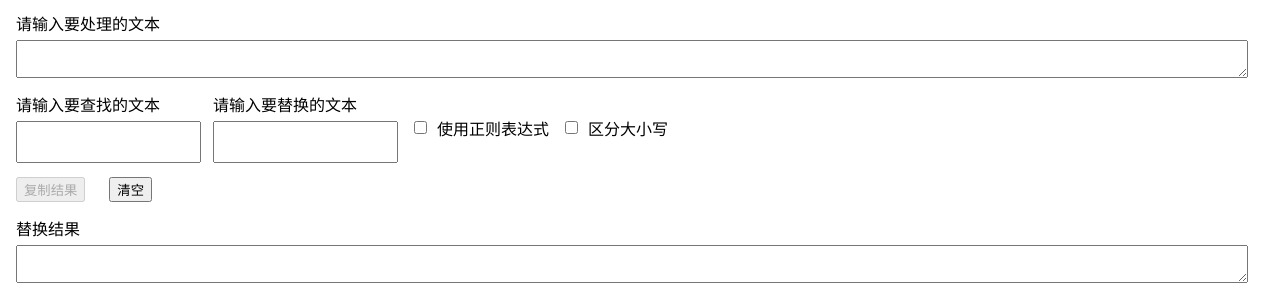
it: developer and text tools › replaces literal punctuation and supports regular expression groups
Step 1. Type "a. A. x" into the text box labelled "请输入要处理的文本" → (632, 59), box [16,40,1248,78]
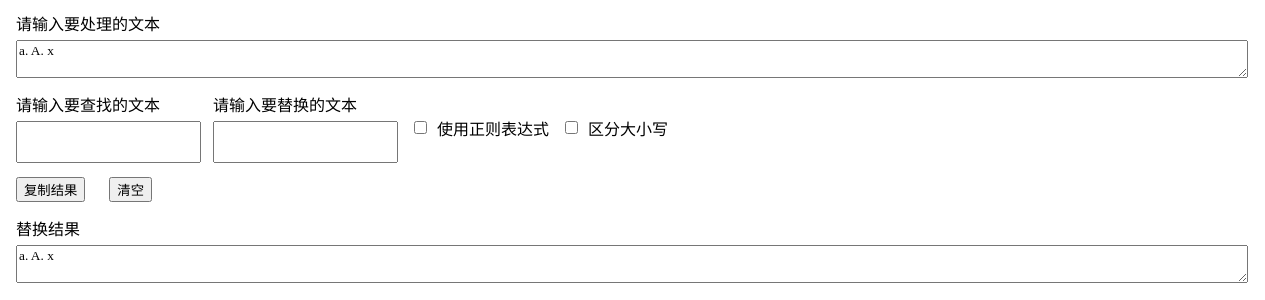
Step 2. Type "a." into the field labelled "请输入要查找的文本" → (108, 142), box [16,121,201,163]
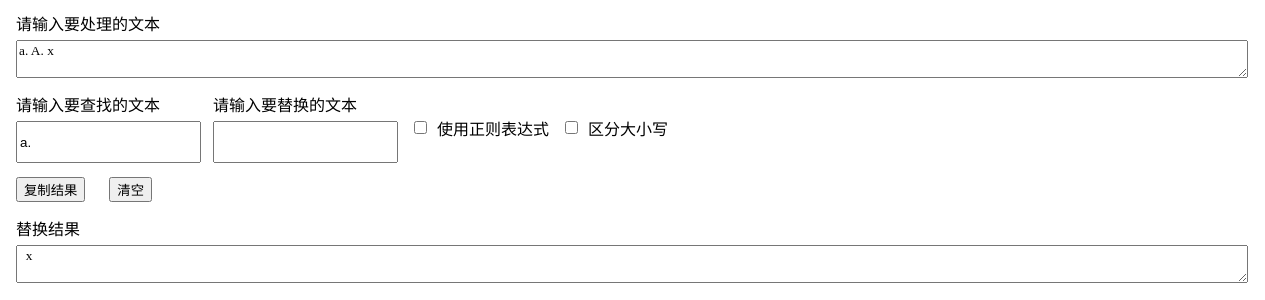
Step 3. Type "$&" into the field labelled "请输入要替换的文本" → (306, 142), box [213,121,398,163]
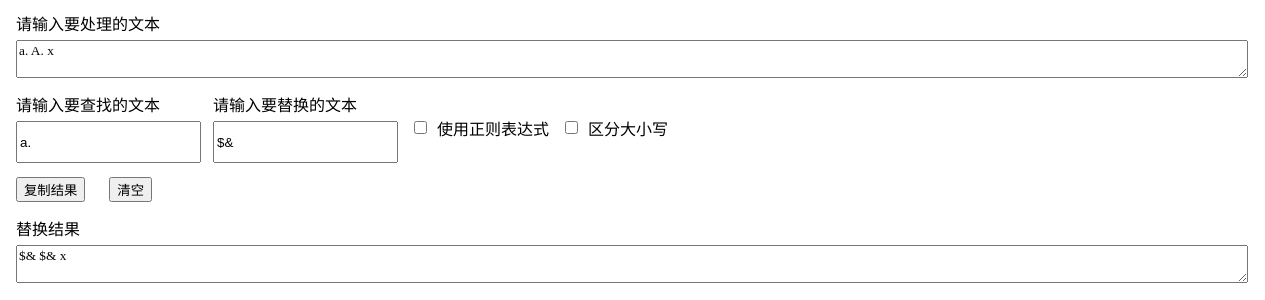
Expected: the text box labelled "替换结果" holds "$& $& x", [16,245,1248,283]
Step 4. Replace the text in the field labelled "请输入要查找的文本" with "([a-z])\\." → (108, 142), box [16,121,201,163]
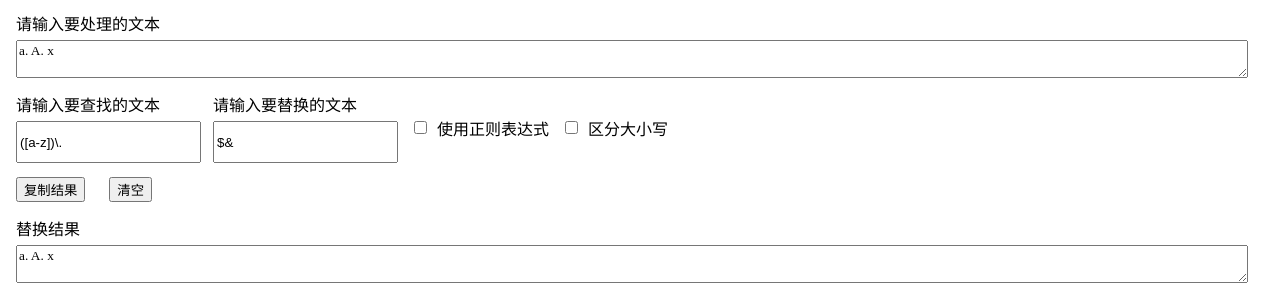
Step 5. Replace the text in the field labelled "请输入要替换的文本" with "[$1]" → (306, 142), box [213,121,398,163]
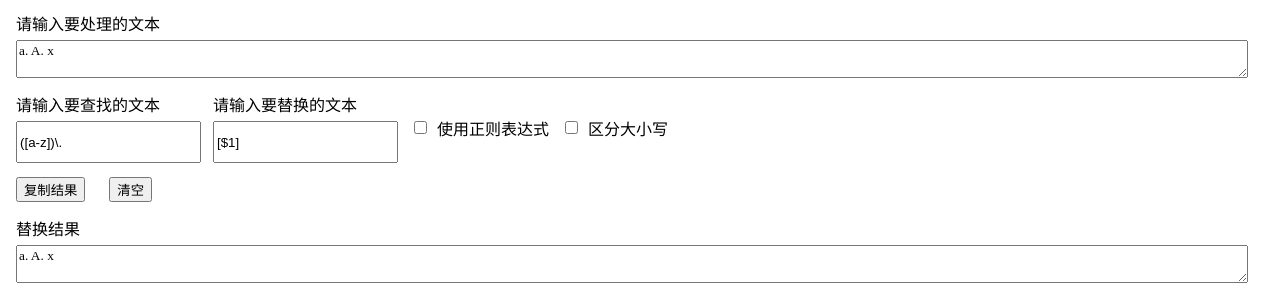
Step 6. Click the checkbox labelled "使用正则表达式" → (420, 128), box [414,121,427,134]
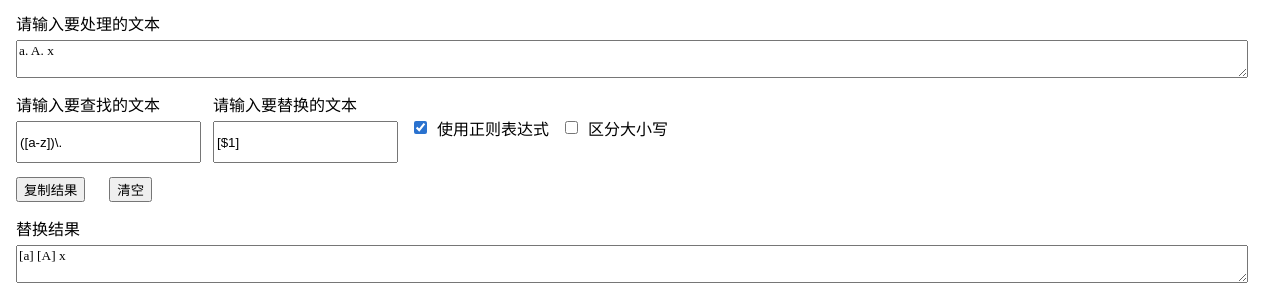
Expected: the text box labelled "替换结果" holds "[a] [A] x", [16,245,1248,283]
